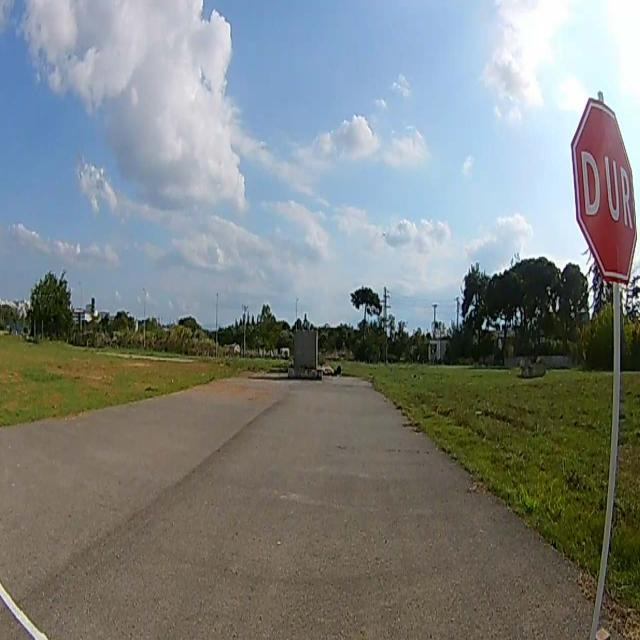dur: (571, 100, 636, 287)
